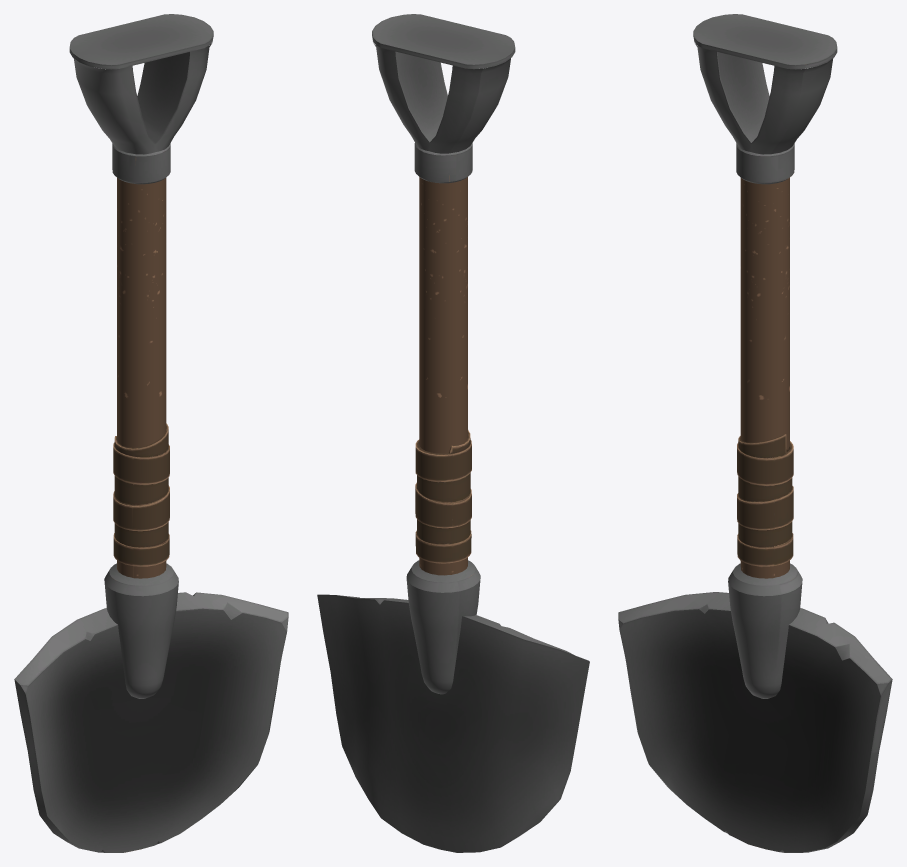
Rendered from SM_Shovel.glb.
3 renders of one model, left to right at view 1: azimuth 30°, elevation 25°; view 2: azimuth 150°, elevation 25°; view 3: azimuth 330°, elevation 25°, orthographic.
Visible parts, largest first — view 1: SM_Shovel; view 2: SM_Shovel; view 3: SM_Shovel.
Part boxes in pixels (bbox=[...]): SM_Shovel: bbox=[14, 14, 288, 852]; SM_Shovel: bbox=[317, 14, 589, 852]; SM_Shovel: bbox=[618, 14, 892, 852].
Size of the model in its own units: 0.2783 by 0.7877 by 0.071.
Materials: 1 (1 with a texture image).
